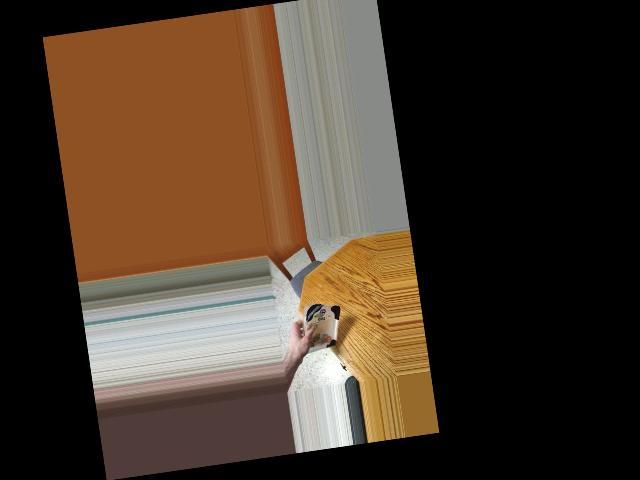cheese: (299, 298, 343, 359)
